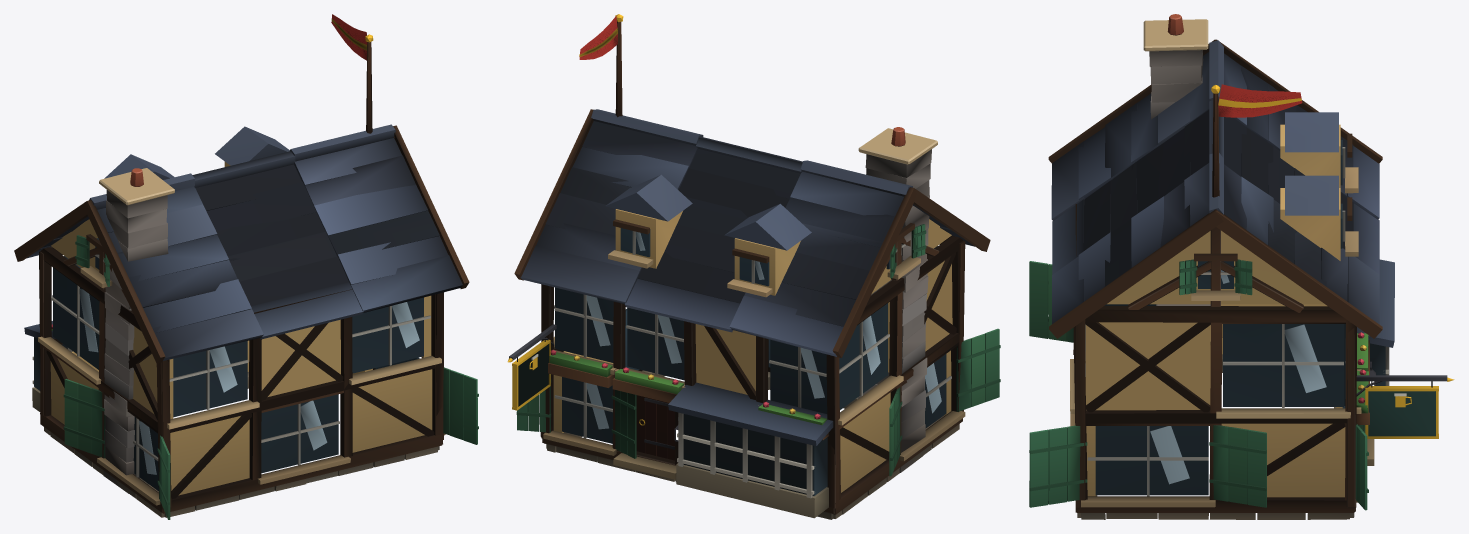
File: HD_Tavern.glb
The picture shows the model from 3 angles, left to right: view 1: azimuth 30°, elevation 25°; view 2: azimuth 150°, elevation 25°; view 3: azimuth 270°, elevation 25°; orthographic projection. The views are drawn at different scales.
Visible parts, largest first — view 1: HD_Tavern_6_Slate, HD_Tavern_3_Wood, HD_Tavern_2_SmoothPlastic, HD_Tavern_1_Sandstone, HD_Tavern_7_Cobblestone, HD_Tavern_4_Wood; view 2: HD_Tavern_6_Slate, HD_Tavern_2_SmoothPlastic, HD_Tavern_3_Wood, HD_Tavern_1_Sandstone, HD_Tavern_7_Cobblestone, HD_Tavern_4_Wood, HD_Tavern_5_Metal; view 3: HD_Tavern_6_Slate, HD_Tavern_2_SmoothPlastic, HD_Tavern_3_Wood, HD_Tavern_1_Sandstone, HD_Tavern_4_Wood, HD_Tavern_7_Cobblestone, HD_Tavern_5_Metal.
Part boxes in pixels (x1,y1,x2,y2): HD_Tavern_6_Slate: (24,124,462,360); HD_Tavern_3_Wood: (14,125,478,519); HD_Tavern_2_SmoothPlastic: (34,14,432,495); HD_Tavern_1_Sandstone: (32,168,445,517); HD_Tavern_7_Cobblestone: (103,190,168,493); HD_Tavern_4_Wood: (366,42,372,133); HD_Tavern_6_Slate: (520,109,974,446); HD_Tavern_2_SmoothPlastic: (549,16,952,495); HD_Tavern_3_Wood: (514,109,1000,514); HD_Tavern_1_Sandstone: (543,128,965,519); HD_Tavern_7_Cobblestone: (858,149,931,472); HD_Tavern_4_Wood: (518,22,769,406); HD_Tavern_5_Metal: (507,14,678,449); HD_Tavern_6_Slate: (1051,40,1394,347); HD_Tavern_2_SmoothPlastic: (1085,14,1385,497); HD_Tavern_3_Wood: (1029,39,1389,512); HD_Tavern_1_Sandstone: (1070,19,1374,519); HD_Tavern_4_Wood: (1179,93,1435,436); HD_Tavern_7_Cobblestone: (1149,50,1210,305); HD_Tavern_5_Metal: (1211,85,1454,438).
Bounding box in the file's own units: 27.7 × 31.6 × 28.32.
